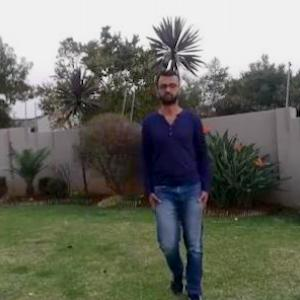follow: (150, 86, 208, 283)
